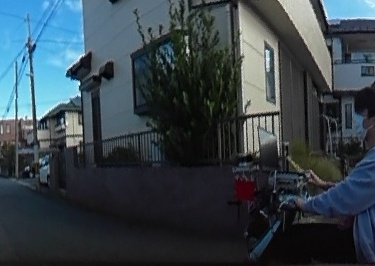person: (304, 82, 375, 266)
